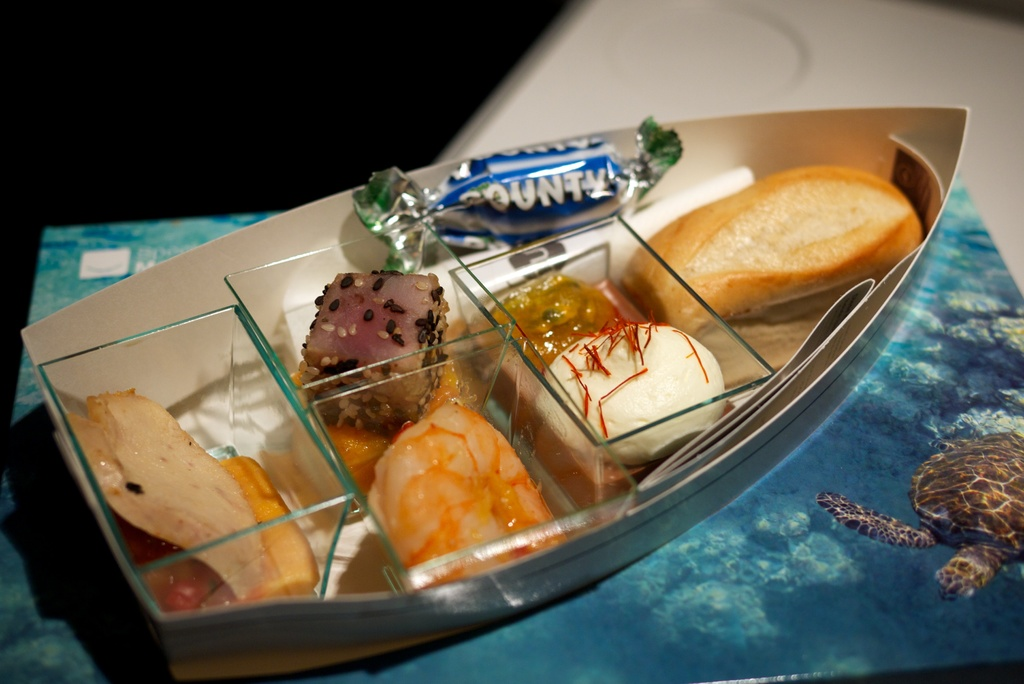Sea turtles: (816, 429, 1023, 603)
